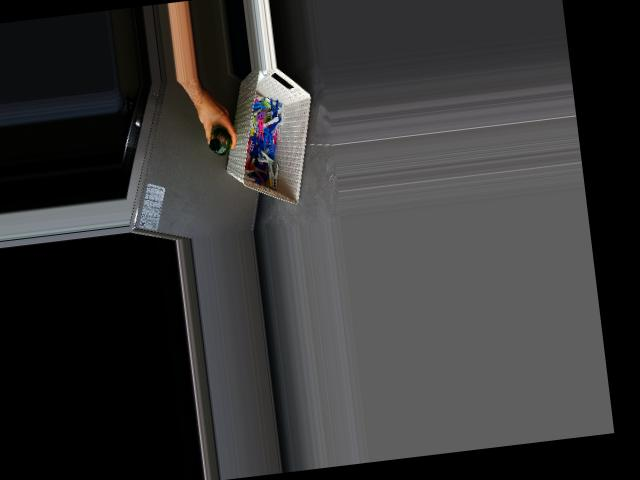beer: (206, 125, 233, 157)
